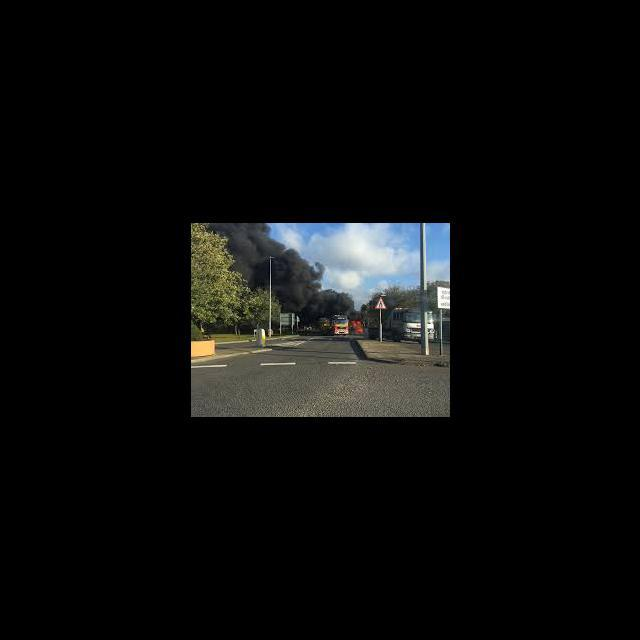Fire: (350, 319, 363, 334)
Smoke: (284, 264, 319, 296), (309, 294, 352, 312), (240, 236, 262, 270)
